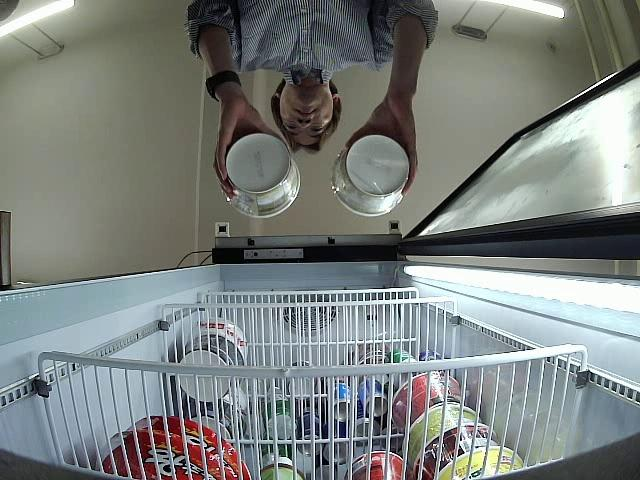00_hand: (343, 102, 420, 193), (215, 106, 272, 199)
03_chapagetti_L: (219, 132, 301, 219), (329, 132, 410, 218)
